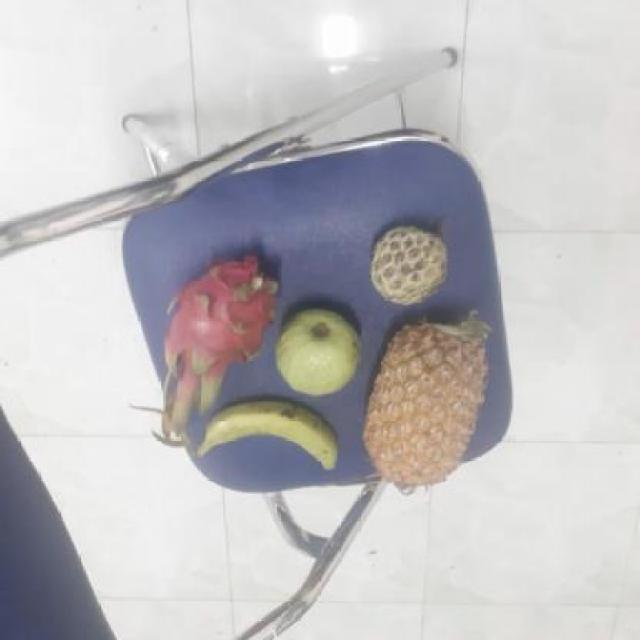dragon fruit: (162, 259, 286, 413)
guava: (275, 305, 367, 397)
pineapple: (365, 313, 492, 492)
sugar apple: (367, 225, 450, 304)
